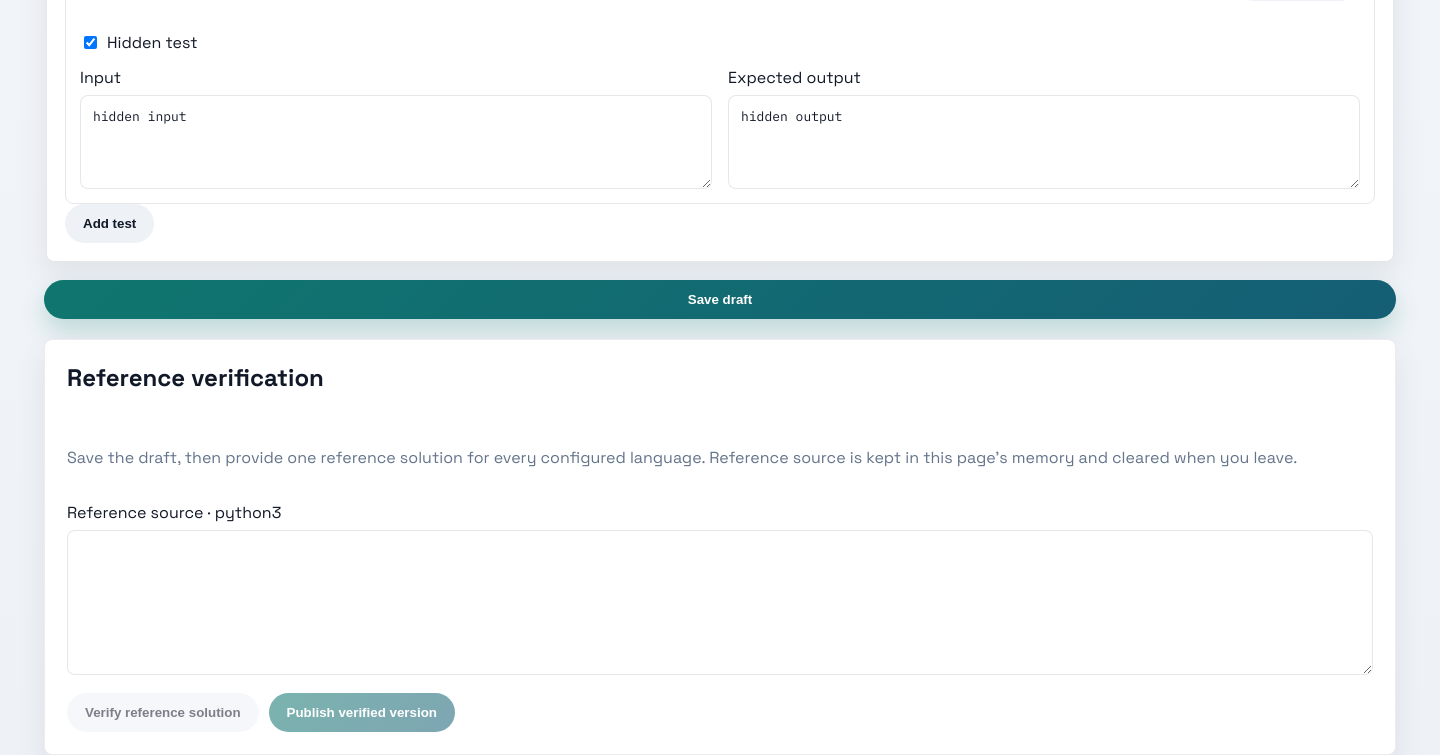
teacher problem authoring › invalidates verification when the draft changes, and blocks partial or expired evidence
The image size is (1440, 755).
(page scrolled)
Type "print(3)" into the text box labelled "Reference source · python3" at (720, 602), box [67,530,1373,675]
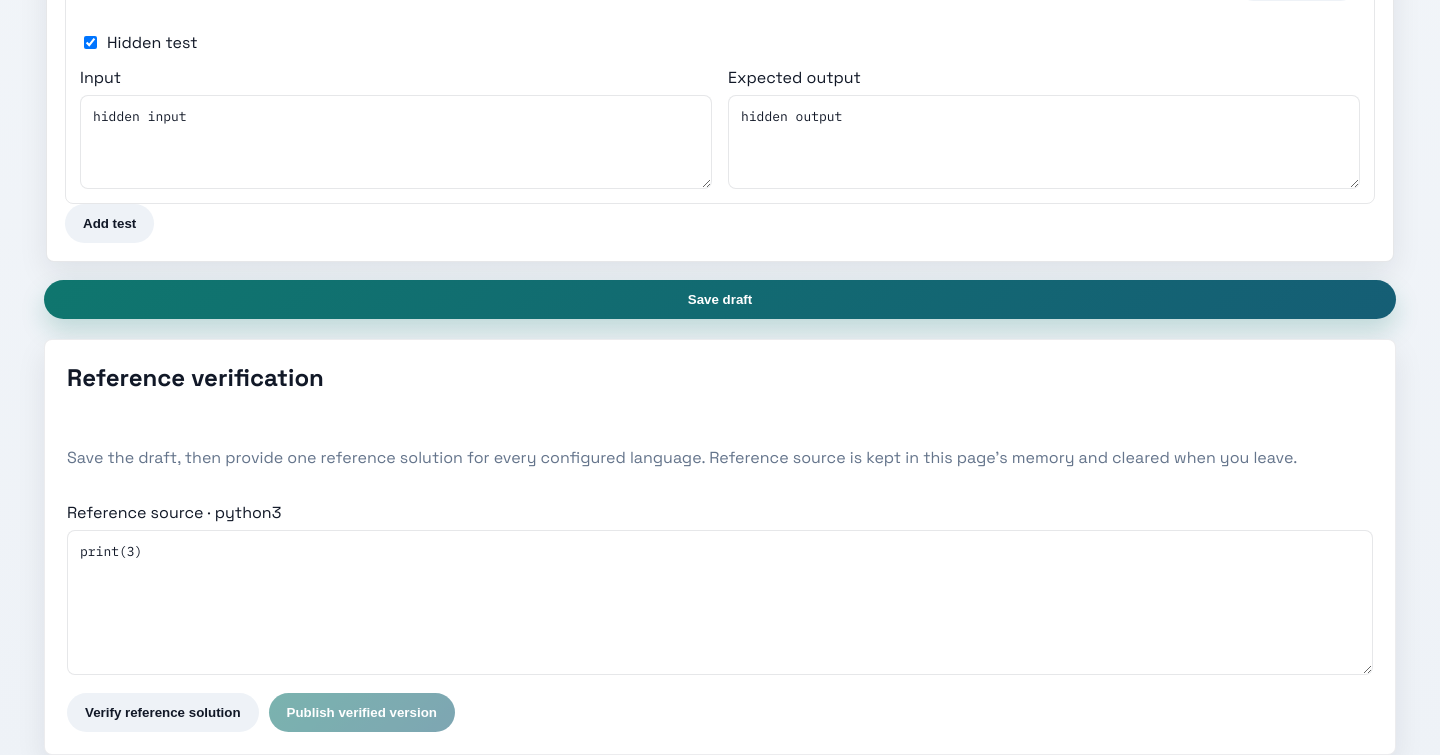
Click the button "Verify reference solution" at (163, 712), box [67,693,259,732]
(page scrolled)
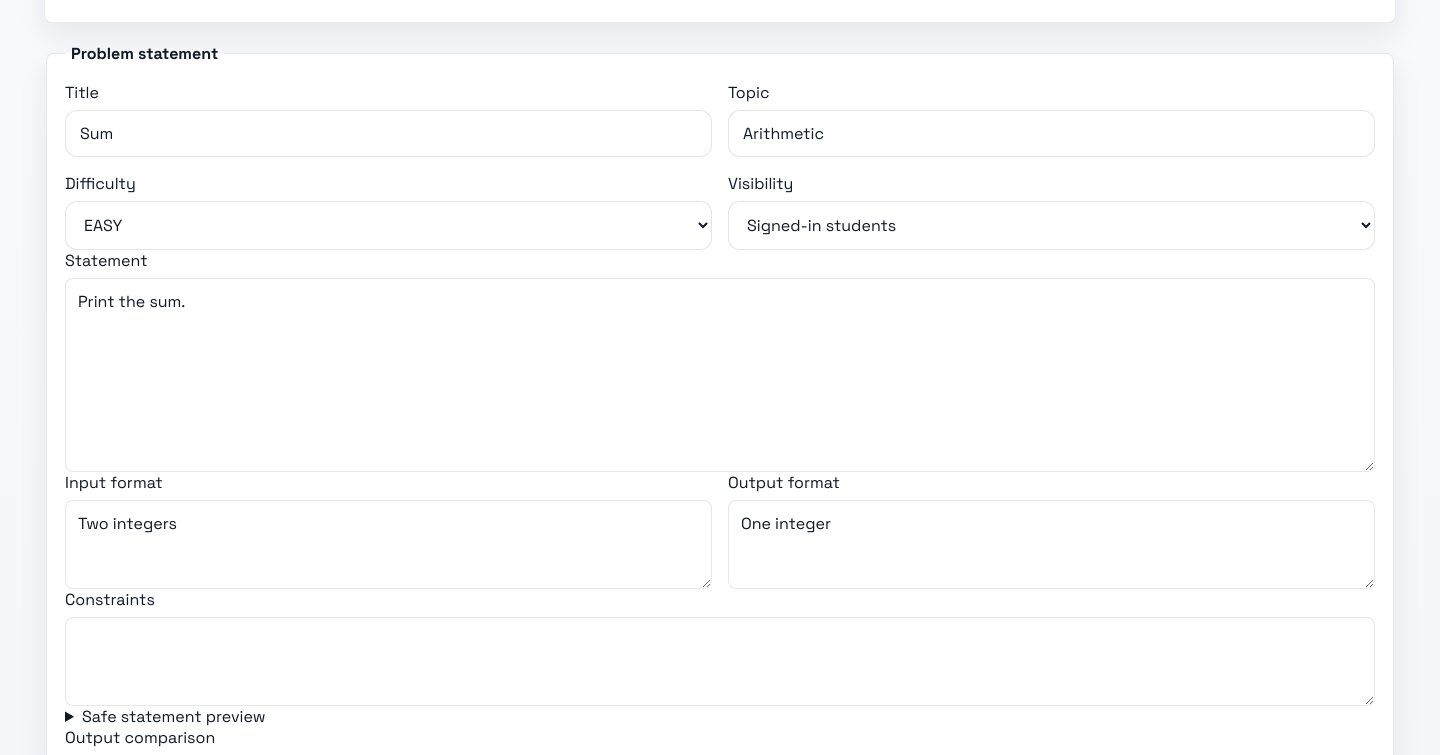
Replace the text in the text box named "statement" with "Changed task" at (720, 375), box [65,278,1375,472]
(page scrolled)
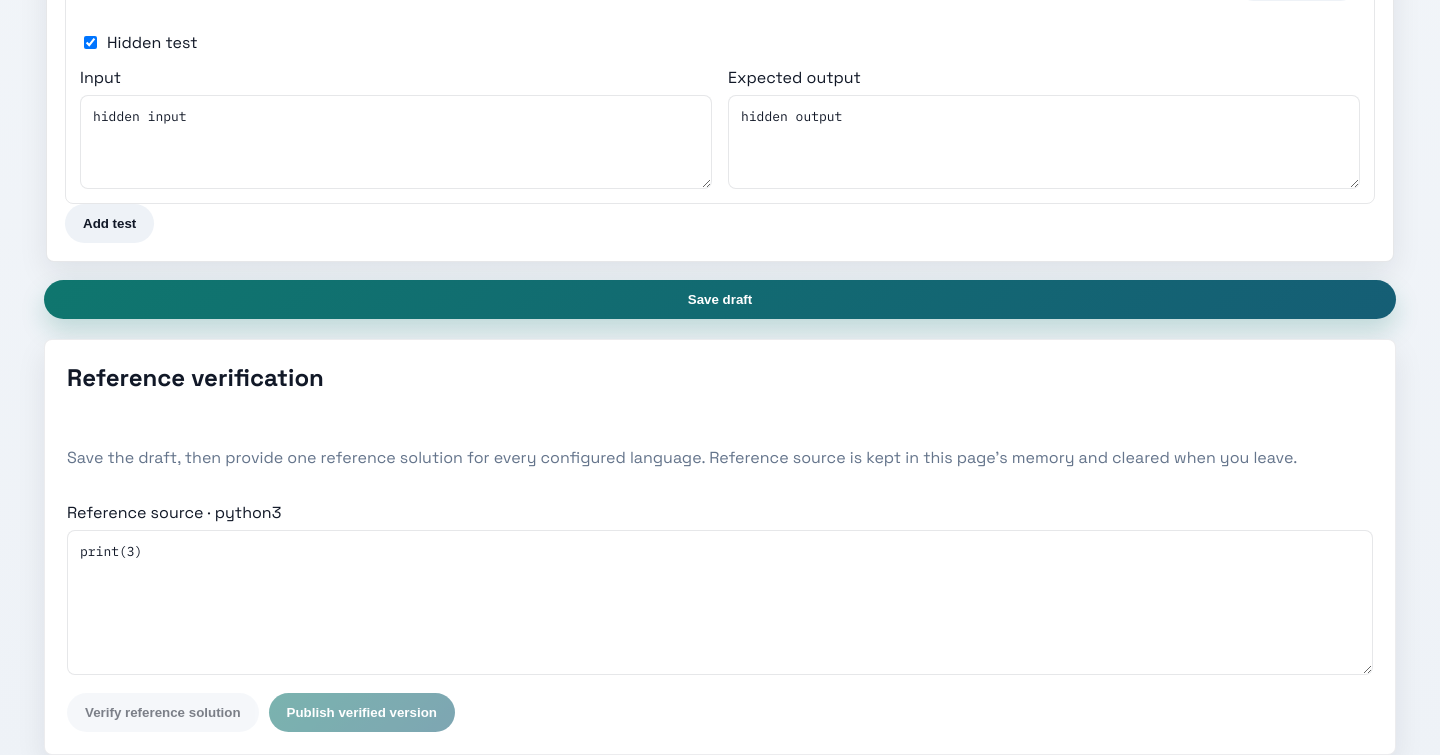
Check: the button "Publish verified version" is disabled, box [269,693,455,732]
Check: the button "Verify reference solution" is disabled, box [67,693,259,732]
